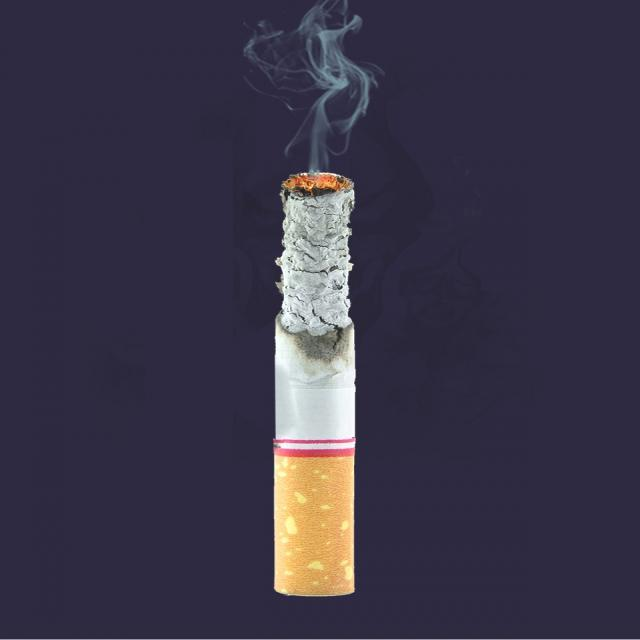cigarette: (260, 151, 382, 605)
